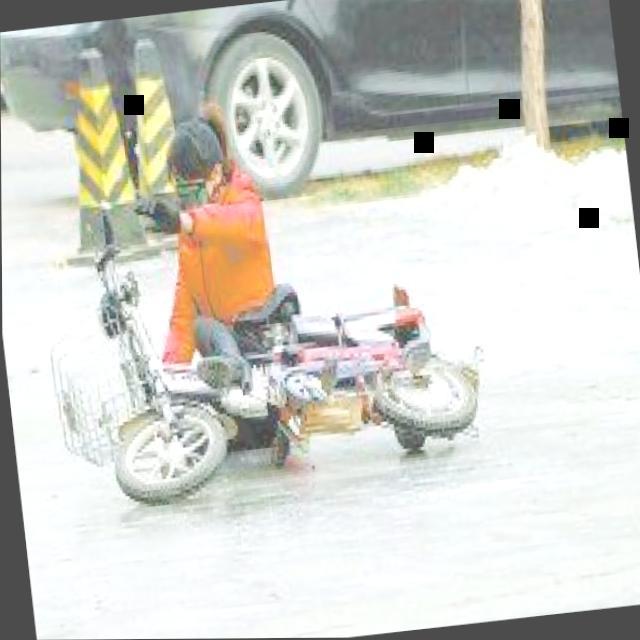Fall-Detected: (114, 69, 323, 463)
